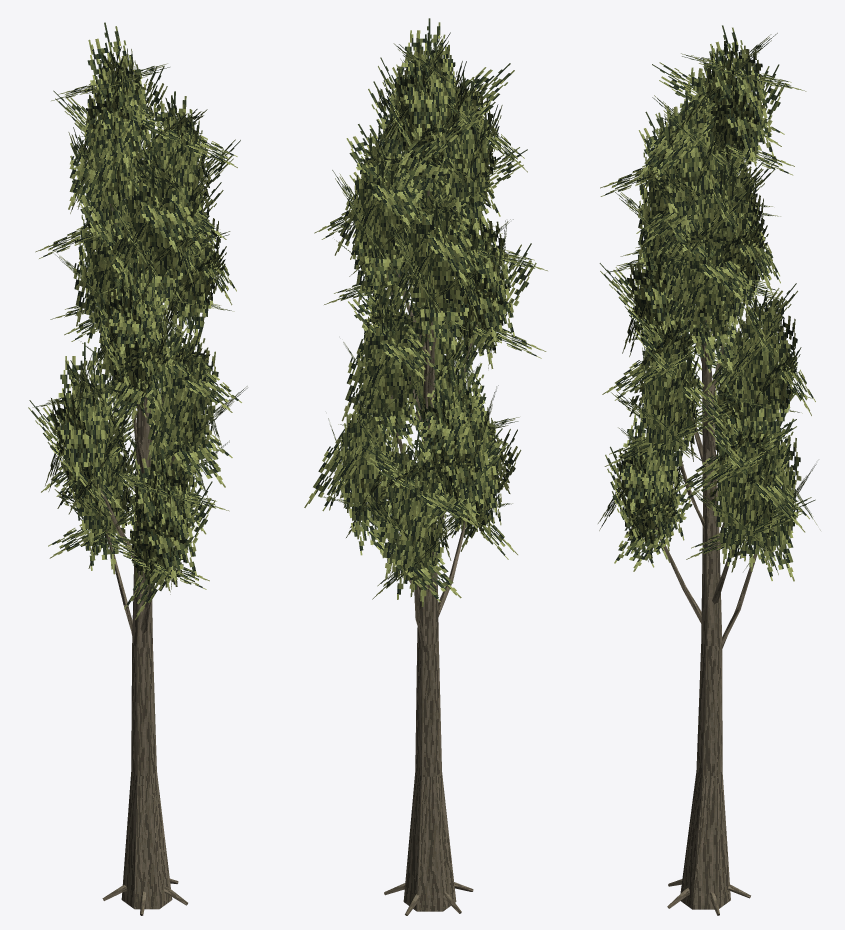
The model's file is TREE_Poplar_A_LOD1.glb.
3 renders of one model, left to right at view 1: azimuth 30°, elevation 25°; view 2: azimuth 150°, elevation 25°; view 3: azimuth 270°, elevation 25°, orthographic. The views are drawn at different scales.
Parts seen in each view (by area): view 1: TREE_Poplar_A_LOD1__Card, TREE_Poplar_A_LOD1__Bark, TREE_Poplar_A_LOD1__Foliage; view 2: TREE_Poplar_A_LOD1__Card, TREE_Poplar_A_LOD1__Bark, TREE_Poplar_A_LOD1__Foliage; view 3: TREE_Poplar_A_LOD1__Card, TREE_Poplar_A_LOD1__Bark, TREE_Poplar_A_LOD1__Foliage.
Part boxes in pixels (box(x1,y1,x2,y2)): TREE_Poplar_A_LOD1__Card: box(28, 22, 247, 619); TREE_Poplar_A_LOD1__Bark: box(97, 180, 187, 915); TREE_Poplar_A_LOD1__Foliage: box(72, 92, 200, 557); TREE_Poplar_A_LOD1__Card: box(304, 18, 547, 606); TREE_Poplar_A_LOD1__Bark: box(384, 187, 477, 915); TREE_Poplar_A_LOD1__Foliage: box(353, 87, 493, 547); TREE_Poplar_A_LOD1__Card: box(598, 25, 820, 581); TREE_Poplar_A_LOD1__Bark: box(655, 143, 759, 915); TREE_Poplar_A_LOD1__Foliage: box(637, 80, 782, 525).
Size of the model in its own units: 4.08 by 16.61 by 4.21.
3 materials, 3 textured.
